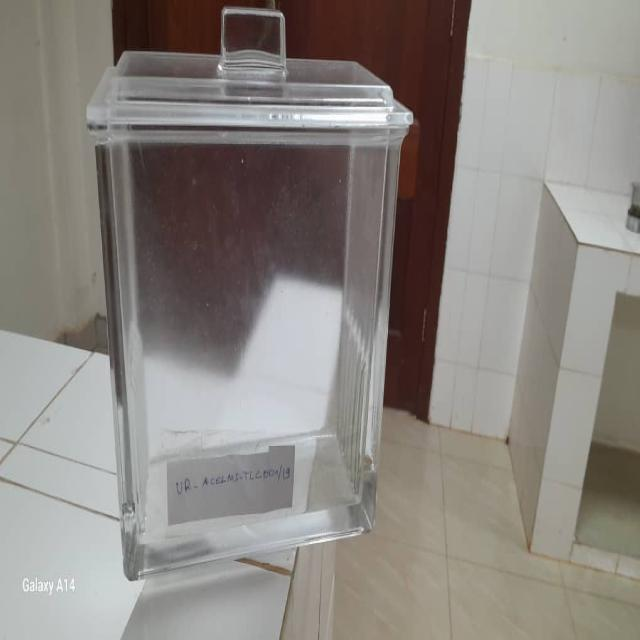TLC Tank: (74, 3, 410, 580)
